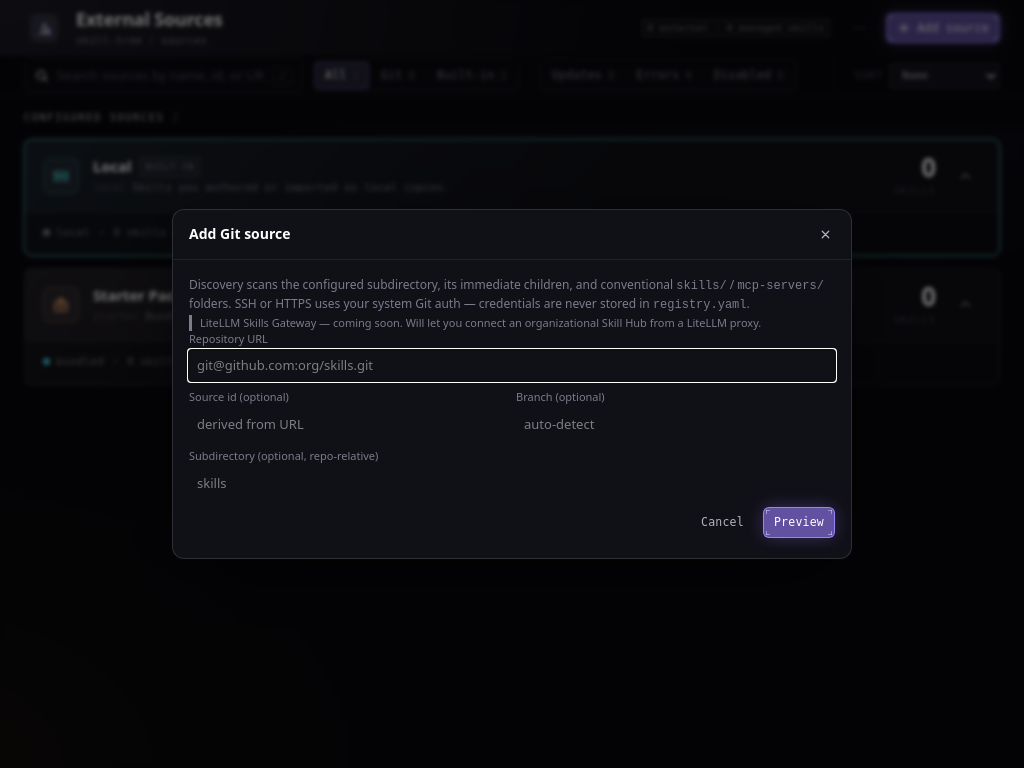
it: AddSourceModal — source-id derivation & collision › blocks Preview for a reserved built-in id
The width and height of the screenshot is (1024, 768).
Step 1. Type "git@github.com:org/x.git" into the field with placeholder "git@github.com:org/skills.git" → (512, 366), box [189,350,835,381]
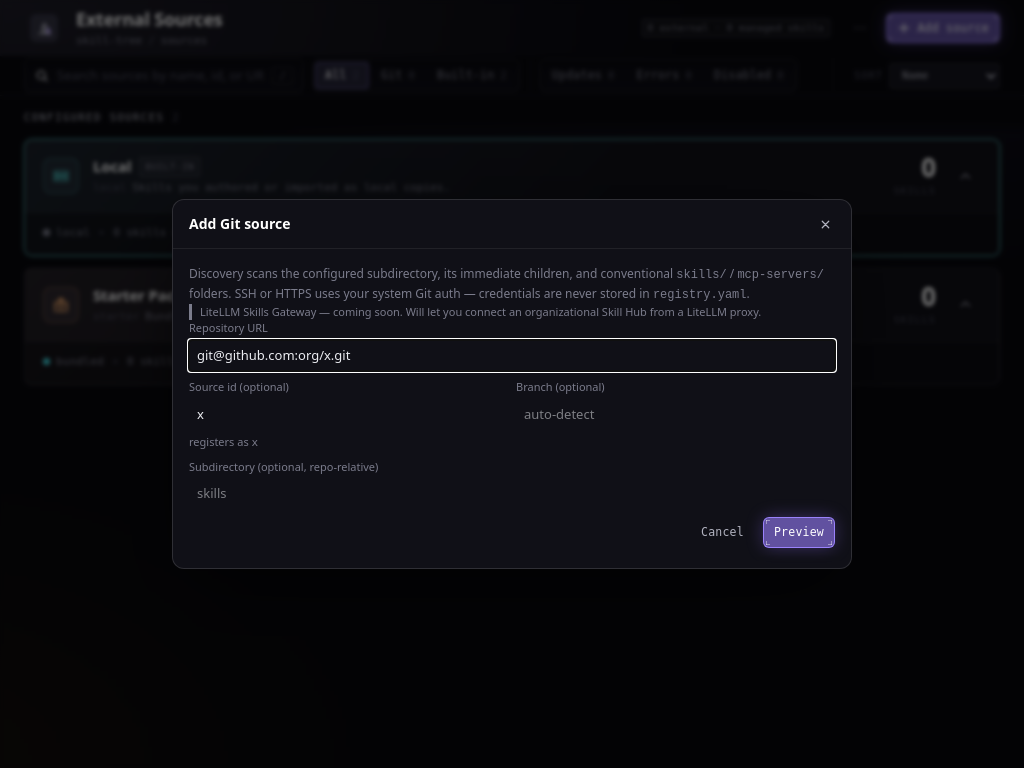
Expected: the field with placeholder "derived from URL" holds "x"
Step 2. Replace the text in the field with placeholder "derived from URL" with "starter" → (348, 414), box [189,399,508,430]
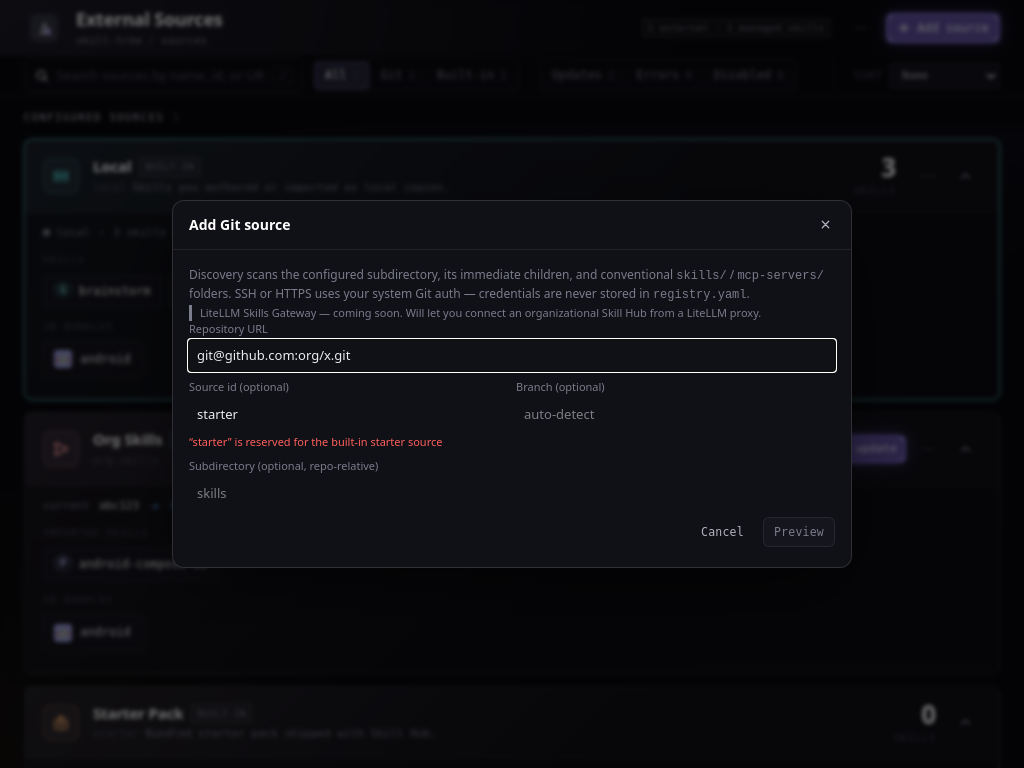
Expected: the text with test id "source-id-error" shows "reserved", [189,434,442,449]
Expected: the button "Preview" is disabled, [763,517,835,548]
